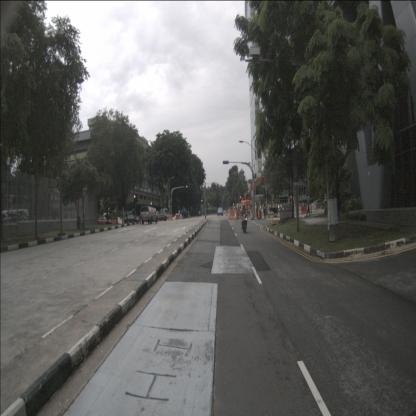human-pedestrian-adult: (306, 198, 310, 216), (247, 203, 251, 219), (263, 204, 267, 219), (256, 202, 259, 218), (259, 203, 262, 219)
movable_object-barrier: (228, 210, 238, 219), (234, 210, 242, 219), (300, 206, 308, 214), (306, 204, 314, 212), (294, 206, 301, 215), (116, 219, 121, 225), (112, 219, 117, 224), (175, 214, 179, 220)
movable_object-trafficcone: (270, 212, 274, 225), (234, 213, 238, 221)
vehicle-car: (0, 209, 25, 233), (140, 206, 158, 224), (310, 199, 326, 210), (96, 217, 112, 226), (124, 214, 139, 223), (217, 207, 223, 216)
vehicle-motorcycle: (241, 203, 248, 233), (181, 207, 189, 218)
vehicle-truck: (268, 194, 295, 214), (154, 209, 169, 222)
